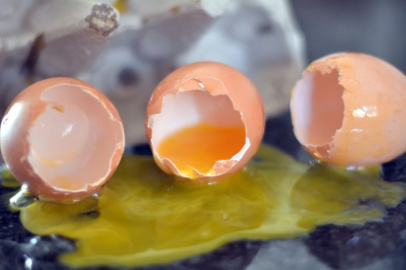egg: (1, 71, 138, 218), (142, 55, 269, 194), (283, 37, 406, 175)
